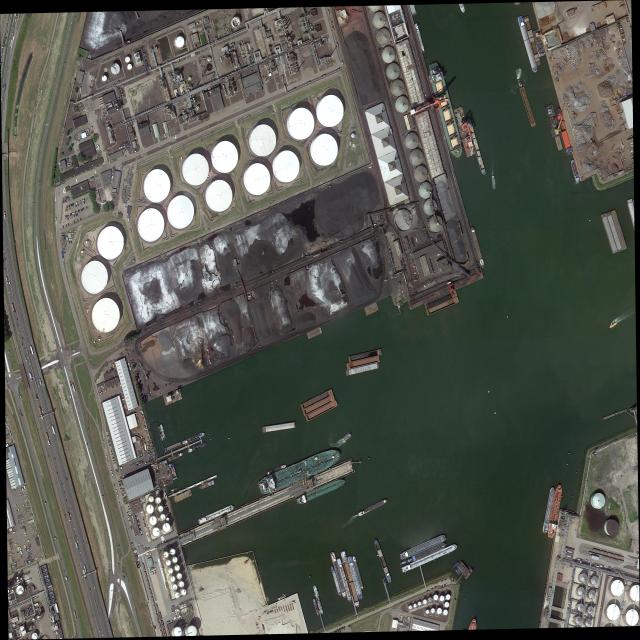large-vehicle: (45, 432, 51, 447), (38, 407, 44, 420), (134, 459, 144, 465), (51, 424, 56, 435), (10, 33, 14, 46), (2, 37, 6, 49), (11, 303, 15, 314), (72, 382, 76, 392), (29, 372, 33, 382), (30, 345, 34, 355), (67, 512, 71, 522), (75, 541, 79, 551), (73, 610, 77, 620), (83, 569, 87, 579), (19, 409, 23, 418), (83, 565, 87, 574), (69, 382, 73, 390), (24, 354, 28, 362), (5, 276, 9, 284), (129, 463, 135, 468), (144, 442, 147, 451), (3, 84, 6, 93), (3, 211, 6, 220), (61, 251, 64, 259), (39, 378, 42, 386), (15, 15, 18, 23), (35, 394, 38, 401), (145, 460, 149, 465), (65, 576, 68, 582)
ship: (256, 447, 344, 499), (425, 59, 466, 161), (400, 543, 459, 574), (295, 477, 347, 507), (339, 549, 361, 609), (466, 117, 488, 177), (399, 534, 447, 561), (517, 15, 538, 75), (453, 106, 476, 158), (554, 106, 574, 158), (523, 14, 542, 68), (547, 483, 564, 541), (373, 538, 393, 584), (347, 553, 365, 603), (330, 551, 348, 600), (336, 557, 353, 604), (300, 388, 334, 411), (304, 400, 338, 423), (411, 541, 448, 562), (519, 85, 537, 128), (302, 394, 336, 416), (470, 224, 486, 270), (425, 296, 460, 317), (606, 210, 623, 253), (198, 504, 234, 524), (601, 212, 618, 254), (611, 209, 628, 251), (542, 485, 556, 535), (423, 290, 458, 310), (544, 103, 562, 139), (357, 498, 388, 518), (348, 348, 383, 363), (346, 355, 381, 370), (345, 362, 379, 377), (352, 555, 365, 591), (330, 564, 343, 598), (532, 28, 546, 58), (262, 421, 296, 433), (312, 584, 324, 615), (414, 22, 426, 53), (627, 198, 639, 227), (181, 432, 206, 445), (173, 489, 193, 504), (266, 463, 288, 476), (570, 159, 580, 183), (187, 442, 207, 453), (164, 441, 182, 453), (364, 302, 379, 316), (306, 327, 322, 340), (168, 462, 178, 481), (167, 451, 184, 462), (198, 479, 215, 490), (312, 597, 320, 617), (468, 617, 478, 633), (399, 557, 413, 567), (159, 423, 167, 440), (458, 1, 466, 14), (158, 425, 164, 442), (343, 432, 352, 443), (277, 593, 287, 602), (466, 563, 474, 574), (464, 571, 472, 580), (517, 78, 523, 89), (609, 321, 618, 328), (492, 174, 496, 189), (456, 567, 463, 575), (455, 568, 462, 576), (452, 561, 460, 568), (171, 487, 177, 492)
small-vehicle: (413, 271, 417, 275), (8, 281, 11, 285), (115, 489, 118, 493), (113, 483, 116, 487), (100, 371, 103, 375), (104, 365, 107, 369), (71, 212, 74, 216), (80, 561, 83, 565), (387, 243, 391, 246), (12, 297, 14, 302), (8, 290, 10, 295), (105, 388, 107, 393), (106, 454, 108, 459), (45, 500, 47, 505), (138, 534, 141, 537), (140, 533, 143, 536), (140, 531, 143, 534), (138, 523, 141, 526), (137, 520, 140, 523), (136, 519, 139, 522), (144, 523, 147, 526), (143, 522, 146, 525), (143, 521, 146, 524), (142, 515, 145, 518), (127, 517, 130, 520), (129, 513, 132, 516), (128, 510, 131, 513), (126, 511, 129, 514), (109, 446, 112, 449), (107, 438, 110, 441), (106, 434, 109, 437), (106, 433, 109, 436), (97, 376, 100, 379), (106, 364, 109, 367), (121, 495, 124, 498), (122, 489, 125, 492), (119, 484, 122, 487), (112, 455, 115, 458), (113, 462, 116, 465), (112, 459, 115, 462), (112, 458, 115, 461), (75, 201, 78, 204), (409, 253, 412, 256), (401, 263, 404, 266), (401, 264, 404, 267), (400, 260, 403, 263), (405, 248, 408, 251), (403, 241, 406, 244), (394, 268, 397, 271), (389, 248, 392, 251), (390, 252, 393, 255), (392, 261, 395, 264), (429, 588, 432, 591), (434, 585, 437, 588), (117, 494, 119, 498), (89, 587, 91, 591), (94, 586, 96, 590), (102, 633, 104, 637), (18, 331, 20, 335), (19, 325, 21, 329), (16, 323, 18, 327), (3, 250, 5, 254), (114, 393, 116, 397), (112, 394, 114, 398), (111, 394, 113, 398), (110, 395, 112, 399), (108, 387, 110, 391), (112, 385, 114, 389), (117, 383, 119, 387), (99, 373, 101, 377), (112, 472, 114, 476), (111, 469, 113, 473), (103, 439, 105, 443), (65, 248, 67, 252), (66, 243, 68, 247), (67, 243, 69, 247), (68, 207, 70, 211), (65, 196, 67, 200), (82, 201, 84, 205), (66, 205, 68, 209), (66, 208, 68, 212), (1, 53, 3, 57), (77, 219, 79, 223), (424, 93, 426, 97), (423, 89, 425, 93), (80, 551, 82, 555), (22, 336, 24, 340), (102, 495, 104, 499), (68, 507, 70, 511), (125, 474, 127, 478), (70, 395, 72, 399), (32, 376, 34, 380), (4, 267, 6, 271), (7, 272, 9, 276), (1, 97, 3, 101), (339, 629, 341, 633), (442, 584, 444, 588), (446, 583, 448, 587), (118, 498, 120, 501), (138, 543, 141, 545), (139, 529, 142, 531), (139, 527, 141, 530), (138, 525, 141, 527), (137, 522, 140, 524), (144, 525, 147, 527), (143, 519, 145, 522), (142, 517, 145, 519), (128, 520, 131, 522), (127, 514, 130, 516), (128, 505, 130, 508), (71, 241, 73, 244), (46, 123, 48, 126), (99, 630, 101, 633), (60, 558, 62, 561), (70, 213, 72, 216), (123, 500, 126, 502), (109, 445, 112, 447), (108, 444, 111, 446), (107, 440, 110, 442), (106, 436, 109, 438), (115, 384, 117, 387), (111, 450, 113, 453), (111, 453, 114, 455), (121, 484, 124, 486), (123, 498, 125, 501), (122, 497, 125, 499), (124, 496, 127, 498), (120, 491, 123, 493), (123, 492, 126, 494), (120, 487, 122, 490), (122, 487, 124, 490), (119, 483, 121, 486), (118, 480, 120, 483), (121, 482, 123, 485), (120, 480, 123, 482), (120, 481, 123, 483), (112, 457, 115, 459), (77, 213, 79, 216), (64, 215, 66, 218), (74, 214, 76, 217), (68, 217, 70, 220), (64, 197, 66, 200), (80, 202, 82, 205), (67, 199, 69, 202), (72, 212, 74, 215), (68, 214, 70, 217), (83, 198, 85, 201), (69, 204, 71, 207), (75, 211, 77, 214), (69, 207, 71, 210), (78, 209, 80, 212), (12, 25, 14, 28), (9, 18, 11, 21), (7, 21, 9, 24), (6, 26, 8, 29), (21, 343, 23, 346), (65, 200, 67, 203), (71, 203, 73, 206), (86, 206, 88, 209), (93, 212, 95, 215), (83, 207, 85, 210), (62, 225, 64, 228), (67, 223, 69, 226), (80, 218, 82, 221), (76, 204, 78, 207), (70, 197, 72, 200), (72, 206, 74, 209), (422, 87, 424, 90), (425, 98, 427, 101), (96, 144, 98, 147), (69, 198, 71, 201), (68, 204, 70, 207), (84, 198, 86, 201), (24, 347, 26, 350), (29, 350, 31, 353), (119, 353, 121, 356), (121, 352, 123, 355), (173, 136, 176, 138), (135, 515, 138, 517), (110, 366, 112, 369), (28, 362, 30, 365), (72, 350, 75, 352), (27, 356, 29, 359), (54, 457, 56, 460), (19, 493, 21, 496), (66, 477, 68, 480), (61, 482, 63, 485), (54, 536, 56, 539), (83, 542, 85, 545), (70, 514, 72, 517), (63, 569, 65, 572), (122, 475, 124, 478), (402, 258, 405, 260), (402, 260, 405, 262), (400, 259, 402, 262), (399, 258, 402, 260), (405, 247, 407, 250), (404, 244, 406, 247), (403, 243, 406, 245), (424, 285, 426, 288), (425, 284, 427, 287), (428, 283, 430, 286), (429, 283, 431, 286), (430, 282, 432, 285), (389, 250, 392, 252), (392, 257, 394, 260), (392, 259, 395, 261), (393, 263, 396, 265), (393, 264, 396, 266), (9, 39, 11, 42), (338, 630, 340, 633), (426, 589, 429, 591), (432, 587, 434, 590), (440, 585, 442, 588), (437, 585, 440, 587), (441, 580, 444, 582), (432, 583, 434, 586), (443, 579, 445, 582), (445, 578, 447, 581), (444, 584, 446, 587), (445, 584, 447, 587), (140, 530, 142, 532), (143, 518, 145, 520), (108, 441, 110, 443), (111, 386, 113, 388), (110, 449, 112, 451), (122, 494, 124, 496), (121, 493, 123, 495), (123, 491, 125, 493), (120, 489, 122, 491), (76, 211, 78, 213), (5, 31, 7, 33), (4, 258, 6, 260), (67, 218, 69, 220), (2, 85, 4, 87), (38, 180, 40, 182), (75, 205, 77, 207), (73, 215, 75, 217), (132, 350, 134, 352), (125, 206, 127, 208), (319, 247, 321, 249), (128, 508, 130, 510), (401, 262, 403, 264), (402, 257, 404, 259), (403, 261, 405, 263), (404, 264, 406, 266), (404, 265, 406, 267), (410, 255, 412, 257), (406, 250, 408, 252), (432, 281, 433, 285), (388, 245, 390, 247), (389, 246, 391, 248), (390, 251, 392, 253), (391, 254, 393, 256), (391, 255, 393, 257), (394, 266, 396, 268), (436, 582, 438, 584), (434, 583, 436, 585), (3, 53, 4, 56), (66, 199, 67, 202), (84, 201, 85, 204), (66, 224, 67, 227), (75, 230, 76, 233), (60, 239, 61, 242), (69, 241, 70, 244), (15, 310, 16, 313), (17, 318, 18, 321), (68, 195, 69, 198), (67, 196, 68, 199), (67, 214, 68, 217), (78, 203, 79, 206), (82, 208, 83, 211), (81, 209, 82, 212), (79, 209, 80, 212), (64, 491, 65, 494), (38, 394, 39, 397), (78, 412, 79, 415), (42, 410, 43, 413), (49, 437, 50, 440), (21, 493, 22, 496), (57, 472, 58, 475), (66, 499, 67, 502), (124, 475, 125, 478), (75, 535, 76, 538), (74, 527, 75, 530), (77, 540, 78, 543), (7, 31, 8, 34), (6, 37, 7, 40), (71, 204, 72, 206), (73, 203, 74, 205), (86, 197, 87, 199), (71, 213, 72, 215), (74, 221, 75, 223), (80, 200, 81, 202), (70, 241, 71, 243), (65, 245, 66, 247), (63, 201, 64, 203), (119, 501, 120, 503), (165, 540, 167, 541)
storage-tank: (89, 295, 122, 334), (135, 204, 166, 244), (78, 258, 111, 295), (165, 194, 197, 232), (209, 137, 240, 175), (271, 149, 302, 187), (246, 122, 279, 157), (314, 93, 346, 129), (241, 161, 272, 198), (180, 152, 211, 187), (95, 225, 125, 261), (285, 107, 317, 140), (310, 134, 341, 167), (205, 179, 234, 214), (143, 170, 172, 203), (394, 208, 413, 231), (609, 578, 625, 597), (605, 603, 621, 621), (428, 215, 444, 232), (590, 492, 606, 509), (423, 198, 438, 216), (404, 131, 419, 149), (394, 97, 410, 113), (381, 47, 397, 63), (418, 182, 433, 199), (414, 165, 429, 182), (390, 80, 405, 97), (376, 29, 391, 46), (372, 12, 387, 29), (624, 609, 639, 626), (605, 518, 619, 536), (410, 150, 425, 166), (386, 63, 401, 79), (627, 584, 640, 602), (185, 625, 198, 637), (174, 36, 186, 48), (171, 626, 183, 637), (144, 504, 155, 515), (110, 63, 120, 75), (231, 16, 241, 28), (150, 527, 160, 537), (147, 516, 157, 526), (161, 523, 171, 532), (578, 573, 588, 582), (589, 575, 598, 585), (585, 605, 594, 615), (16, 586, 25, 595), (576, 587, 585, 596), (587, 590, 596, 599), (575, 603, 584, 612), (573, 616, 582, 625), (583, 618, 592, 627), (169, 583, 178, 591), (158, 513, 166, 521), (165, 567, 173, 575), (177, 580, 185, 588), (179, 588, 187, 596), (435, 607, 443, 615), (161, 551, 169, 558), (156, 505, 164, 512), (168, 575, 176, 582), (172, 591, 180, 598), (432, 593, 439, 601), (164, 559, 171, 566), (147, 496, 154, 503), (124, 56, 131, 63), (443, 601, 450, 608), (207, 63, 213, 71), (200, 59, 206, 67), (174, 564, 180, 572), (127, 63, 133, 71), (172, 557, 179, 563), (170, 548, 176, 555), (155, 497, 161, 504), (101, 75, 107, 82), (31, 633, 38, 639), (421, 598, 427, 605), (439, 595, 445, 602), (176, 573, 182, 579), (427, 597, 433, 603), (445, 594, 451, 600), (443, 609, 448, 616), (430, 607, 435, 614), (424, 609, 430, 614), (412, 603, 417, 608), (417, 601, 422, 606), (408, 604, 412, 610), (203, 69, 207, 74), (350, 134, 355, 138), (165, 517, 170, 521), (207, 57, 211, 62), (196, 106, 199, 110), (188, 76, 191, 80), (81, 250, 84, 254), (85, 241, 88, 244)
